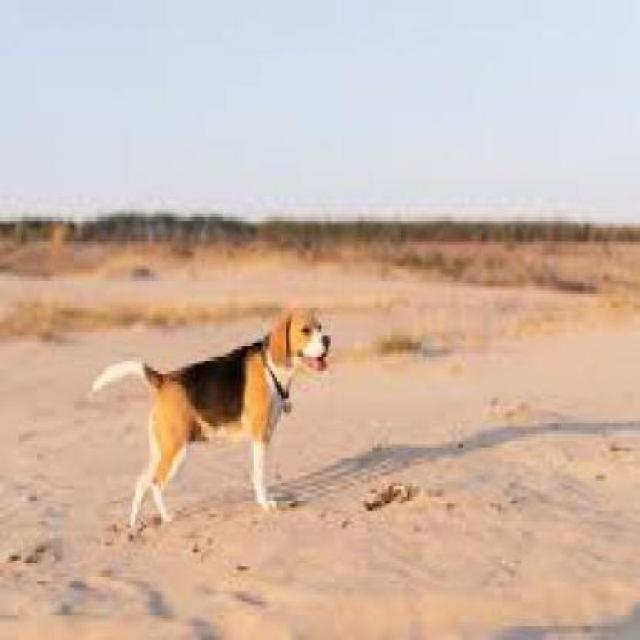Dog: (89, 307, 337, 538)
